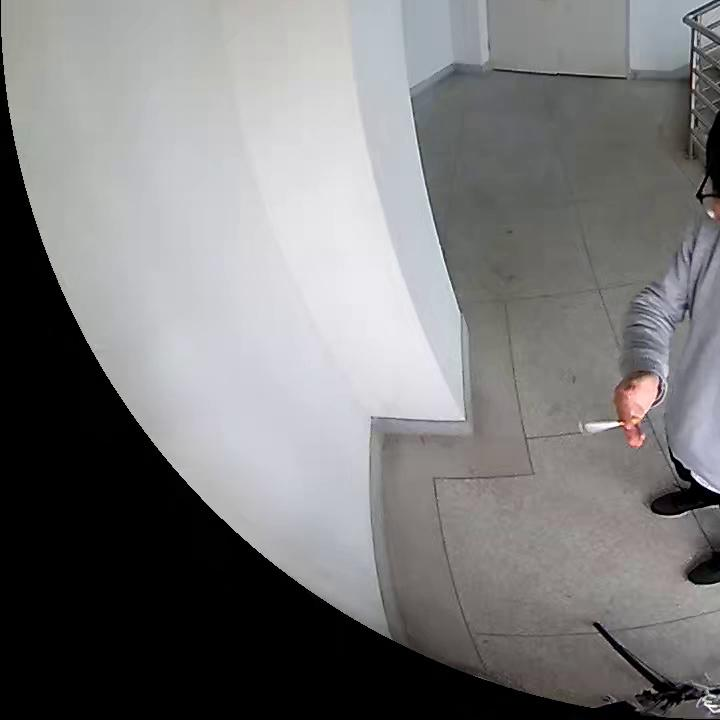handsmoke: (576, 377, 655, 448)
